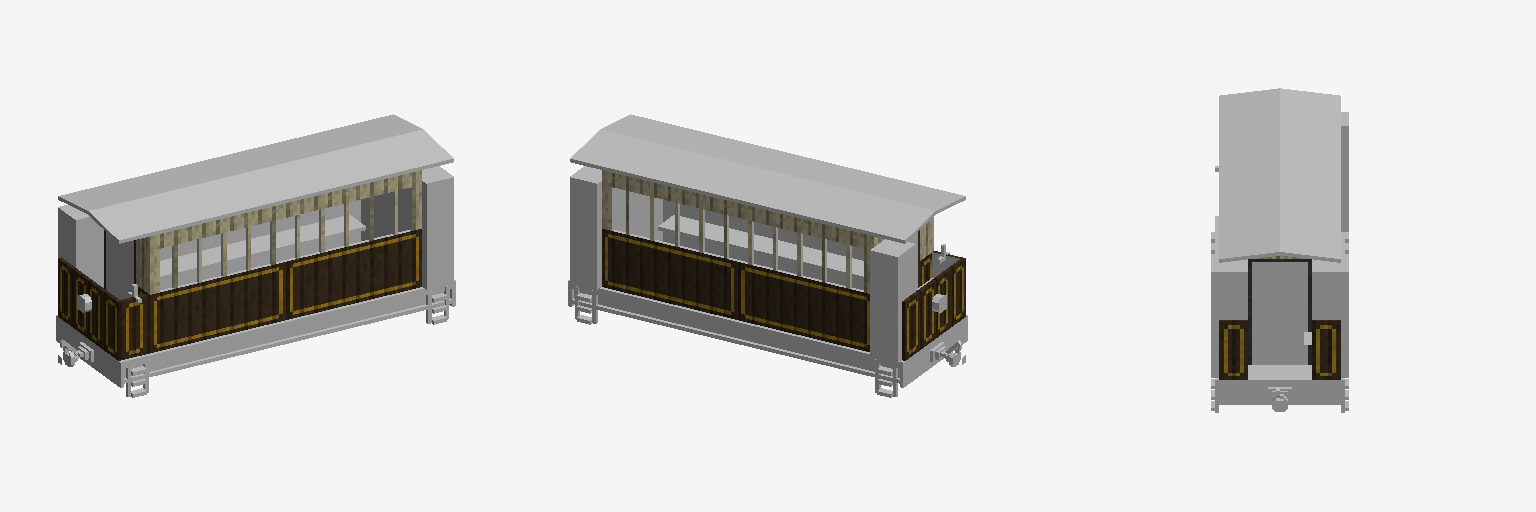
3 views of the same model, side by side, from view 1: azimuth 30°, elevation 25°; view 2: azimuth 150°, elevation 25°; view 3: azimuth 270°, elevation 25° (orthographic).
Visible parts, largest first — view 1: SHELL_WOOD_roof_Cube.002, SHELL_WOOD.001_Cube.045, SHELL_WOOD.002_Cube.047, SHELL_WOOD_cab_Cube.011, SHELL_WOOD_INTERIOR.001_Cube.044, DOOR_6_Cube.015, FRAME.001_Cube.057, FRAME_Cube.068, DOOR_8_Cube.001, FRAME_cab_Cube.056, SHELL_WOOD_cab_roof_Cube.016, SHELL_WOOD_cab_roof.001_Cube.014 (+5 smaller); view 2: SHELL_WOOD_roof_Cube.002, SHELL_WOOD.001_Cube.045, SHELL_WOOD.002_Cube.047, SHELL_WOOD_cab_Cube.011, DOOR_8_Cube.001, SHELL_WOOD_INTERIOR.001_Cube.044, DOOR_7_Cube.022, FRAME.001_Cube.057, FRAME_Cube.068, FRAME_cab_Cube.056, SHELL_WOOD_cab_roof_Cube.016, SHELL_WOOD_cab_roof.001_Cube.014 (+3 smaller); view 3: SHELL_WOOD_roof_Cube.002, SHELL_WOOD_Cube.040, FRAME_cab.001_Cube.041, DOOR_7_Cube.022, DOOR_6_Cube.015, DOOR_1_Cube.033, DOOR_2_Cube.035, SHELL_WOOD_cab_roof.001_Cube.014, SHELL_WOOD_cab_roof_Cube.016, DOOR_8_Cube.001.
Part boxes in pixels (left/top/right/bottom): SHELL_WOOD_roof_Cube.002: left=92, top=123, right=420, bottom=235; SHELL_WOOD.001_Cube.045: left=285, top=170, right=420, bottom=319; SHELL_WOOD.002_Cube.047: left=152, top=203, right=285, bottom=352; SHELL_WOOD_cab_Cube.011: left=58, top=230, right=151, bottom=360; SHELL_WOOD_INTERIOR.001_Cube.044: left=228, top=188, right=409, bottom=273; DOOR_6_Cube.015: left=422, top=166, right=453, bottom=289; FRAME.001_Cube.057: left=286, top=287, right=422, bottom=343; FRAME_Cube.068: left=152, top=320, right=287, bottom=375; DOOR_8_Cube.001: left=58, top=205, right=103, bottom=287; FRAME_cab_Cube.056: left=56, top=315, right=153, bottom=397; SHELL_WOOD_cab_roof_Cube.016: left=58, top=188, right=151, bottom=243; SHELL_WOOD_cab_roof.001_Cube.014: left=360, top=114, right=453, bottom=169; SHELL_WOOD_roof_Cube.002: left=603, top=123, right=931, bottom=235; SHELL_WOOD.001_Cube.045: left=603, top=170, right=738, bottom=319; SHELL_WOOD.002_Cube.047: left=738, top=203, right=871, bottom=351; SHELL_WOOD_cab_Cube.011: left=872, top=217, right=965, bottom=360; DOOR_8_Cube.001: left=870, top=239, right=915, bottom=362; SHELL_WOOD_INTERIOR.001_Cube.044: left=614, top=188, right=795, bottom=273; DOOR_7_Cube.022: left=570, top=166, right=601, bottom=289; FRAME.001_Cube.057: left=601, top=287, right=737, bottom=343; FRAME_Cube.068: left=736, top=320, right=871, bottom=375; FRAME_cab_Cube.056: left=870, top=315, right=967, bottom=397; SHELL_WOOD_cab_roof_Cube.016: left=872, top=188, right=965, bottom=243; SHELL_WOOD_cab_roof.001_Cube.014: left=570, top=114, right=663, bottom=169; SHELL_WOOD_roof_Cube.002: left=1219, top=105, right=1340, bottom=242; SHELL_WOOD_Cube.040: left=1219, top=256, right=1340, bottom=379; FRAME_cab.001_Cube.041: left=1211, top=365, right=1348, bottom=412; DOOR_7_Cube.022: left=1312, top=259, right=1348, bottom=377; DOOR_6_Cube.015: left=1211, top=259, right=1247, bottom=377; DOOR_1_Cube.033: left=1280, top=262, right=1307, bottom=364; DOOR_2_Cube.035: left=1252, top=262, right=1279, bottom=364; SHELL_WOOD_cab_roof.001_Cube.014: left=1219, top=236, right=1340, bottom=262; SHELL_WOOD_cab_roof_Cube.016: left=1219, top=88, right=1340, bottom=111; DOOR_8_Cube.001: left=1341, top=112, right=1348, bottom=231.
Size of the model in its own units: 7 by 2.94 by 2.12.
4 materials, 1 textured.